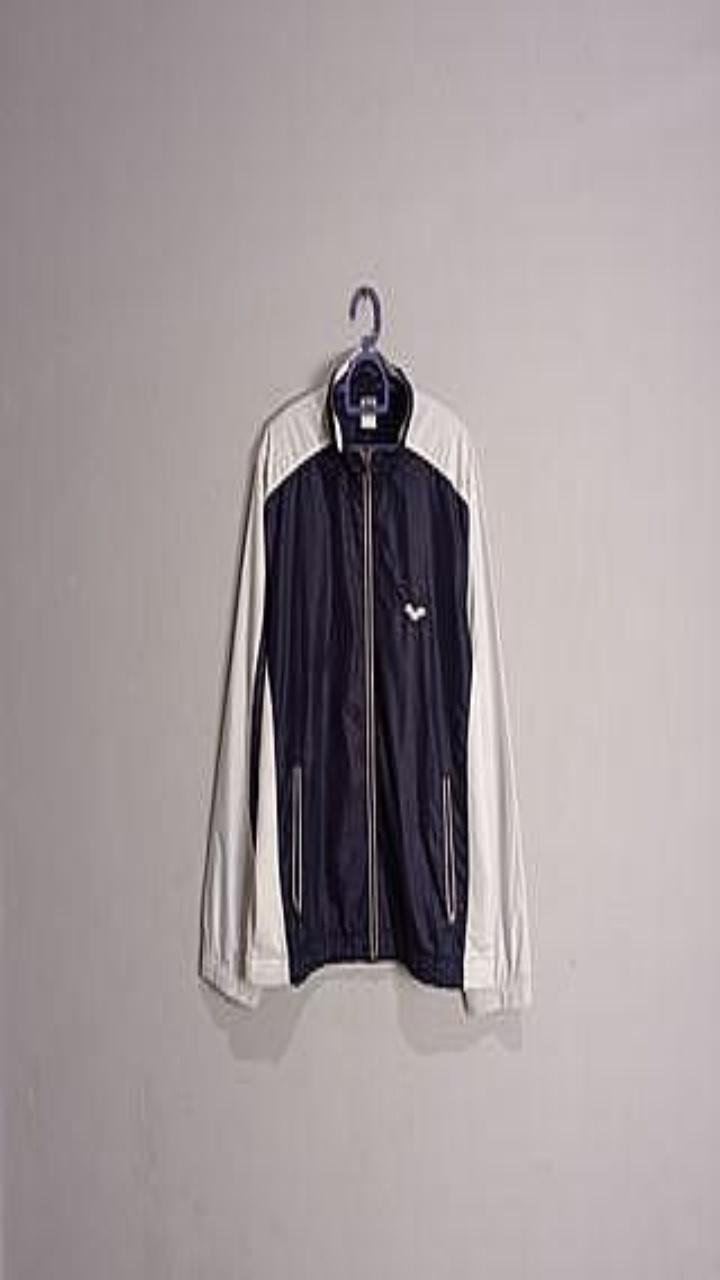Sports_Jacket: (199, 366, 530, 1013)
